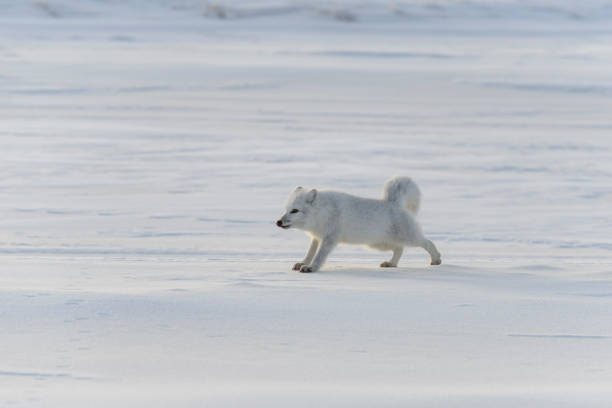arcticfox: (273, 194, 320, 240)
